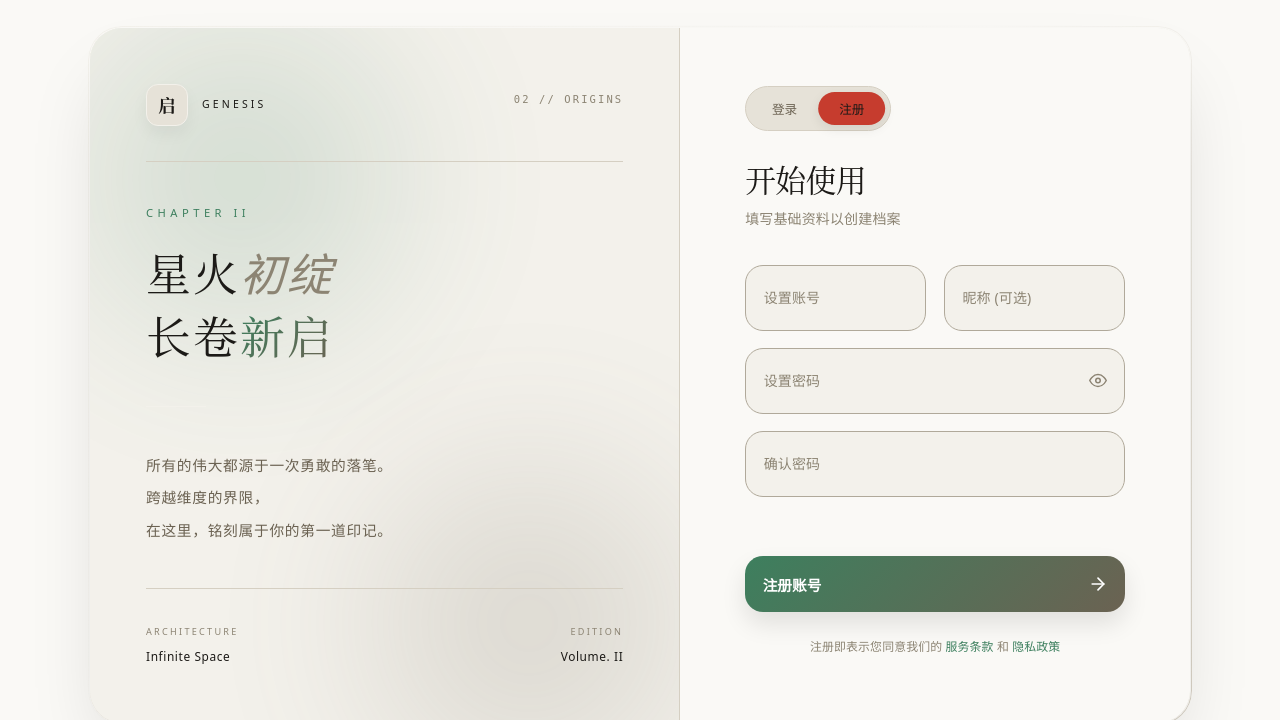
Test: RegisterForm › blocks submission client-side when the username is too short
In the field next to "设置账号": [836, 298] box top-left (764, 277), bottom-right (908, 319), type "ab"
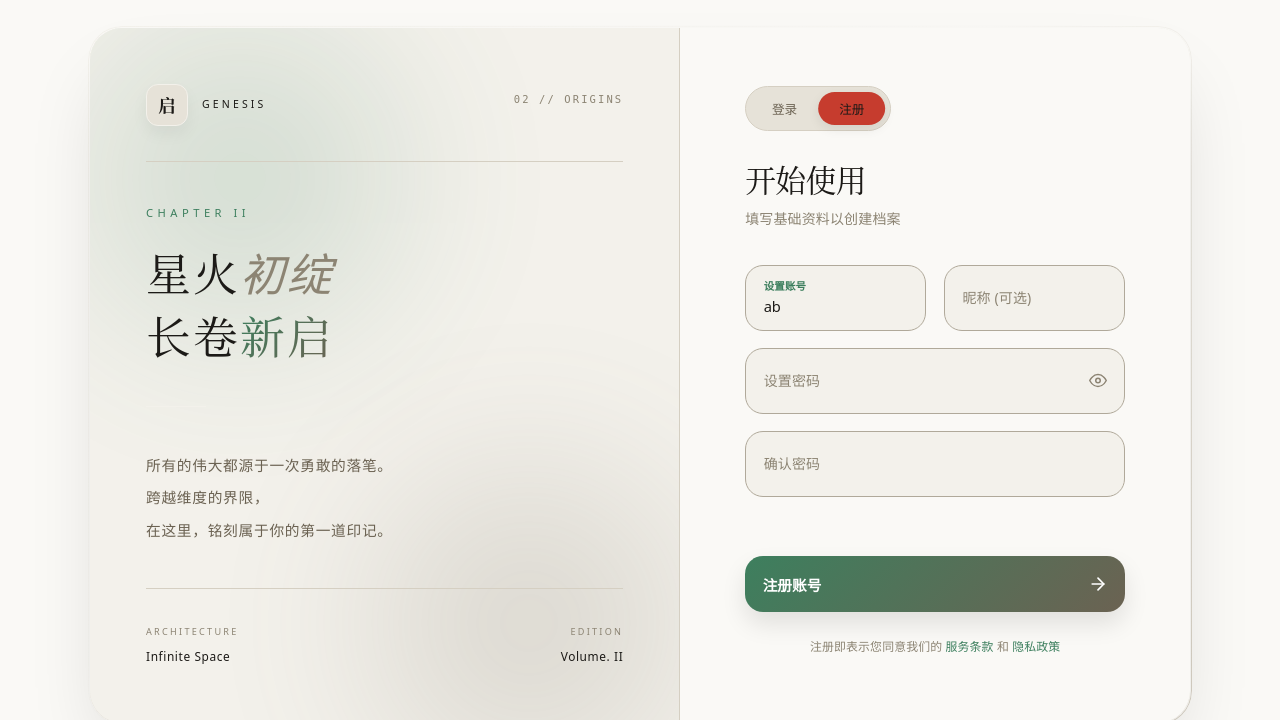
In the password field next to "设置密码": [935, 381] box top-left (764, 360), bottom-right (1107, 402), type "password123"
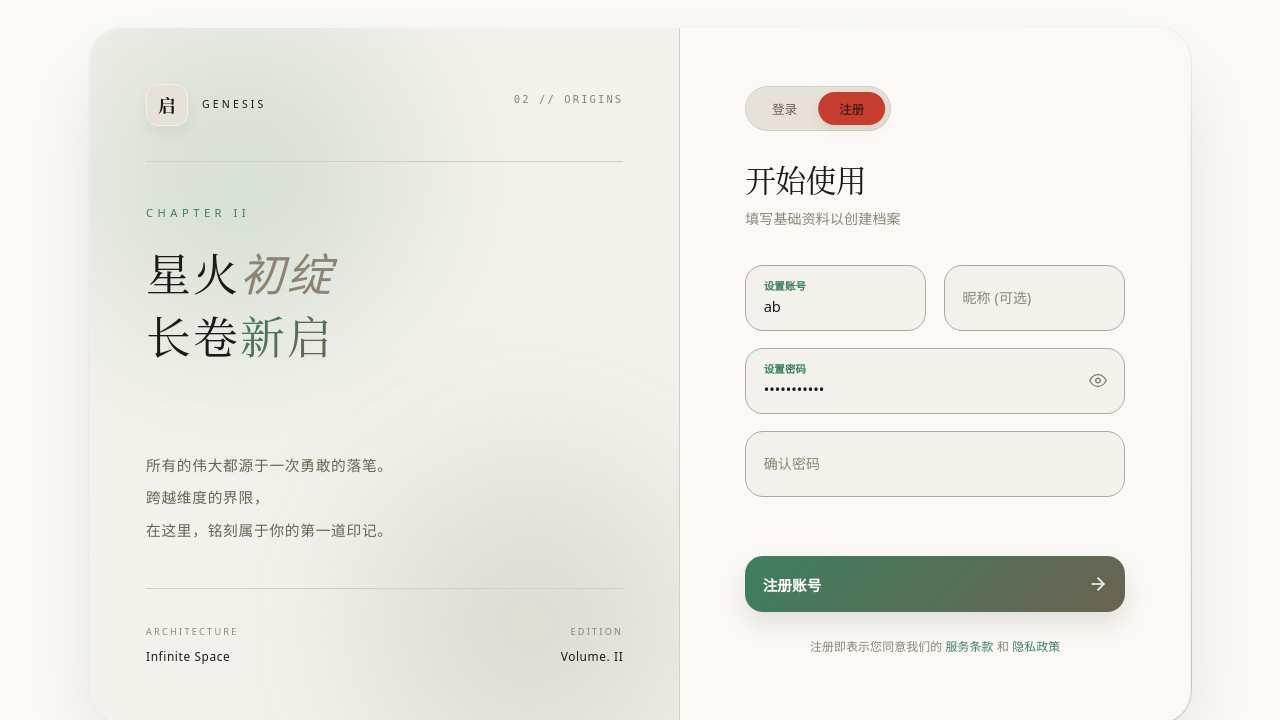
In the password field next to "确认密码": [935, 464] box top-left (764, 443), bottom-right (1107, 485), type "password123"
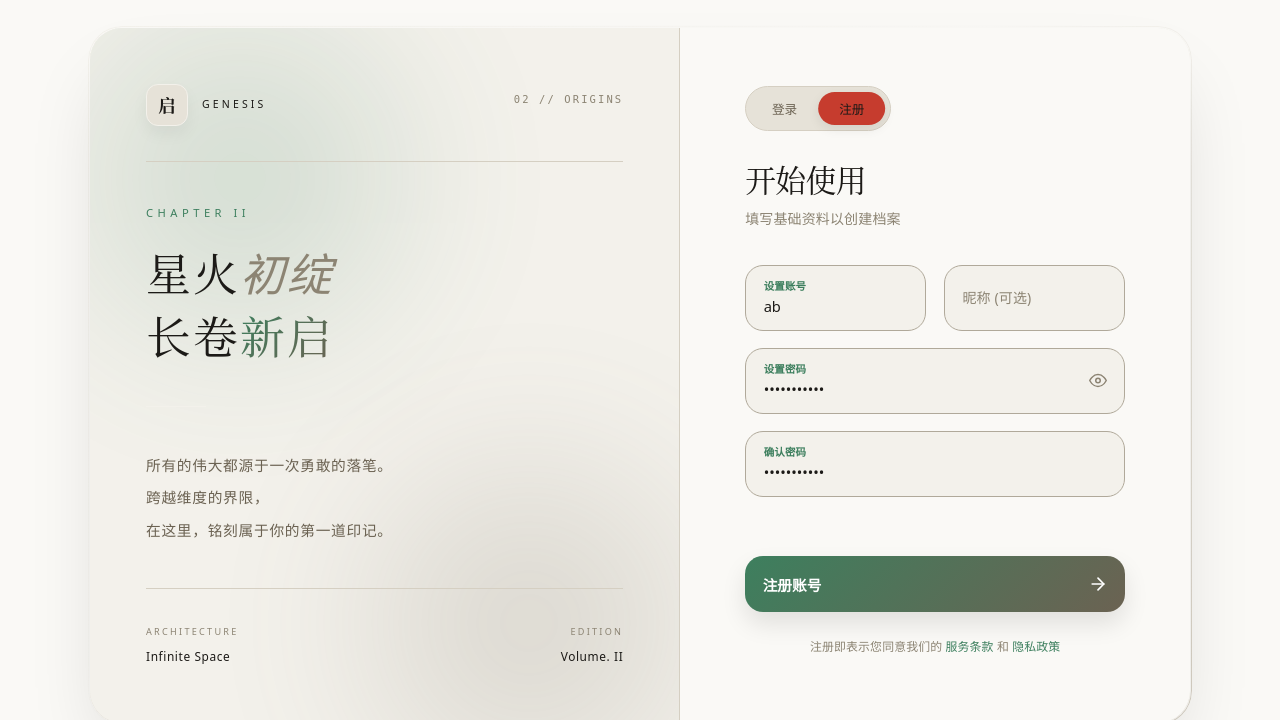
Submit the form, box top-left (745, 265), bottom-right (1125, 665)
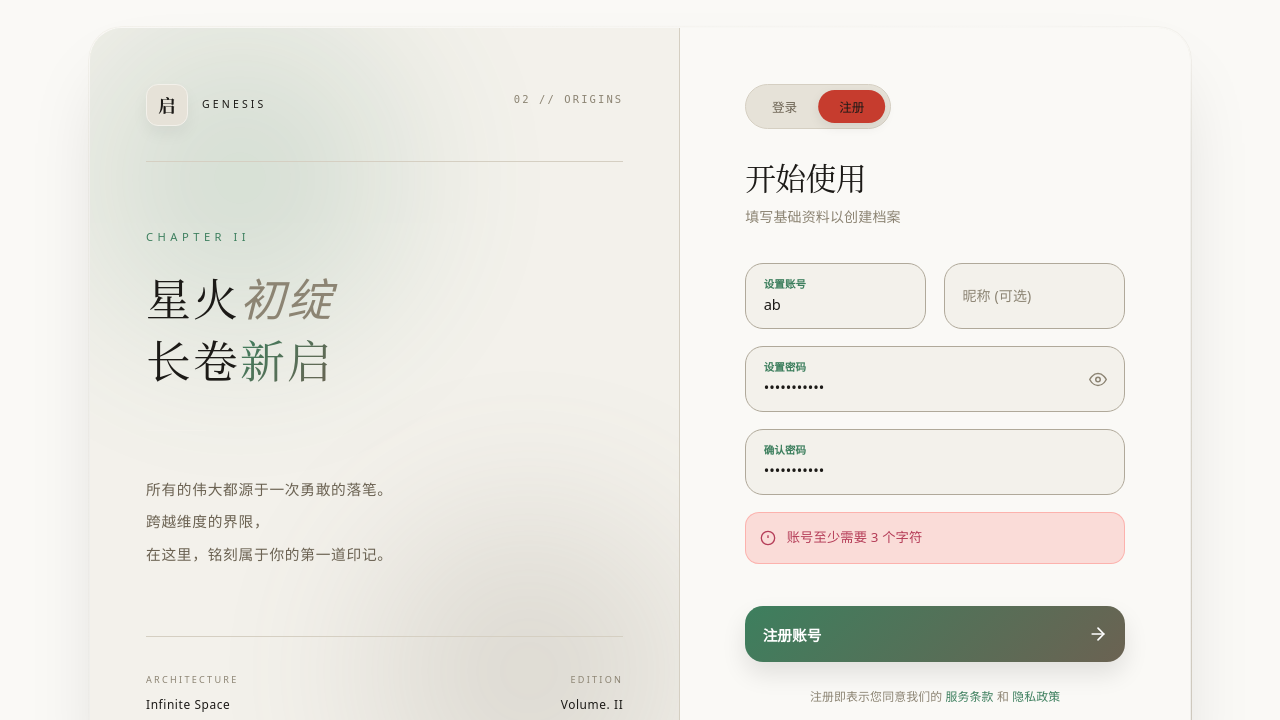
Result: the element with class "error-banner" reads "账号至少需要 3 个字符" at top-left (787, 528), bottom-right (922, 546)
